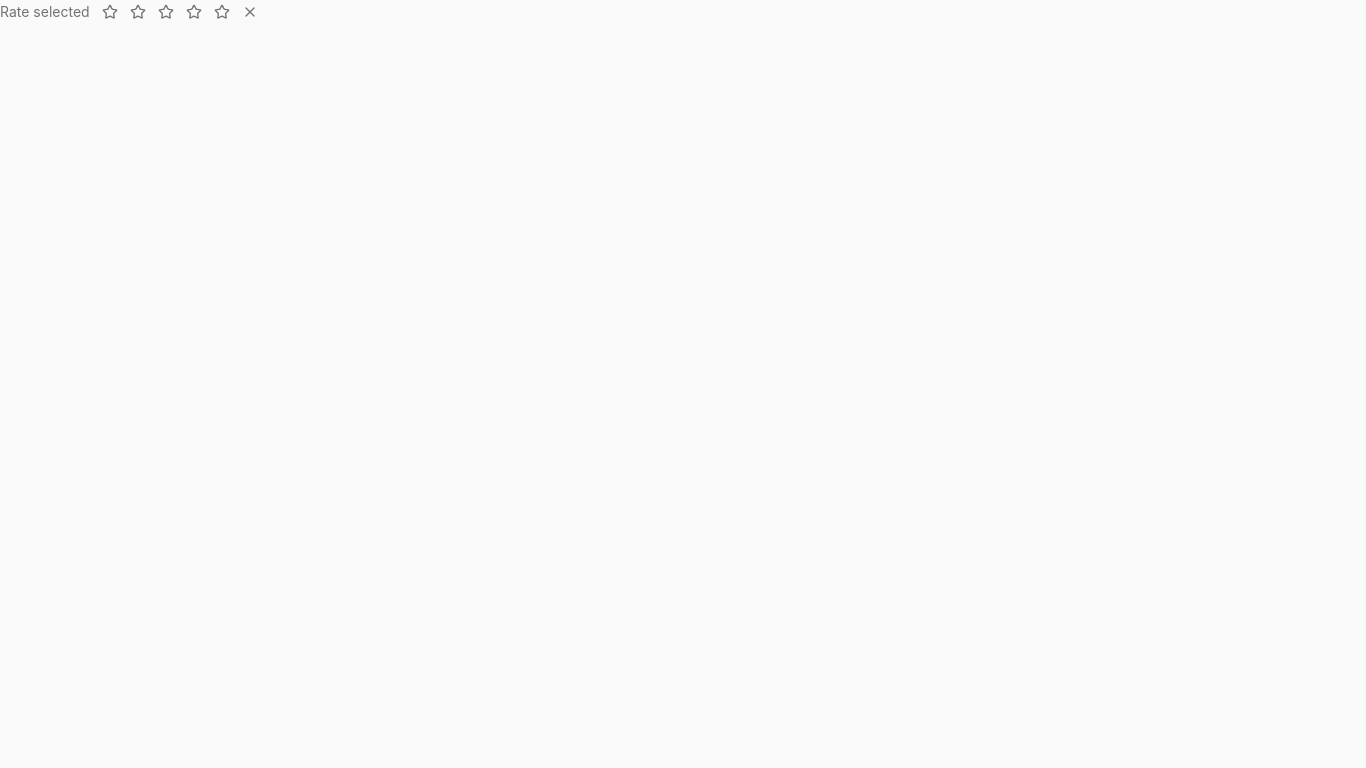
Test: BulkRating › tells its host while the name-and-email dialog is open
Click the button named "Rate 4 stars".
click(194, 12)  # box [182,0,206,24]
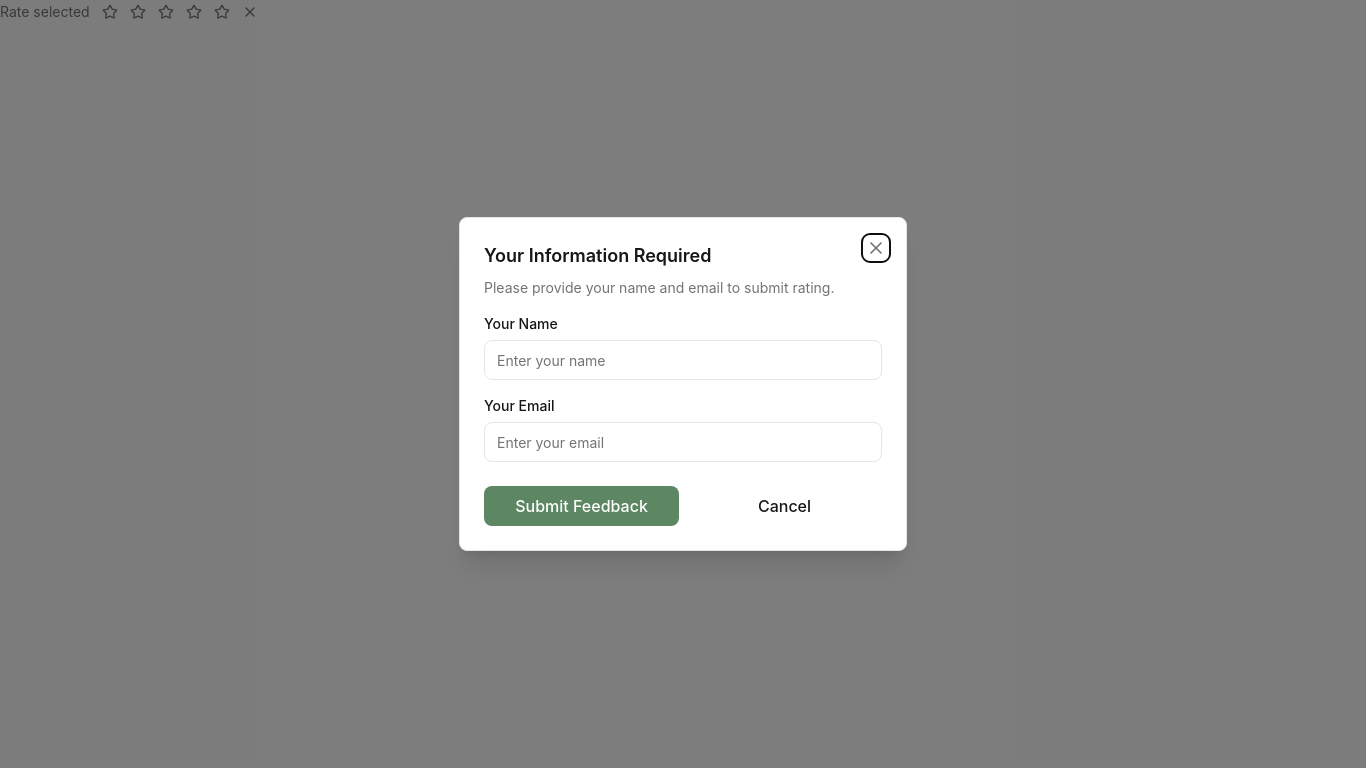
Expected: the dialog is shown, [459,217,907,551]
Press Escape
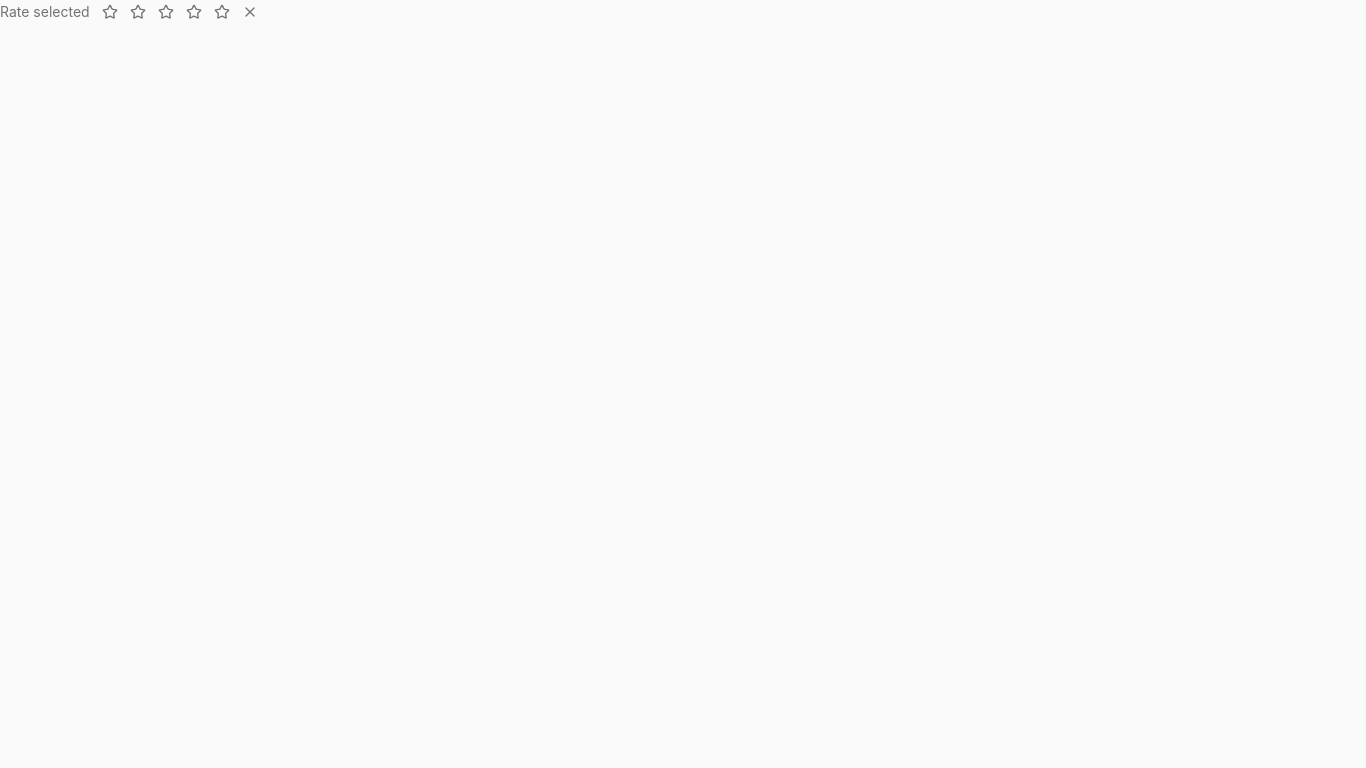
Expected: the dialog is gone
